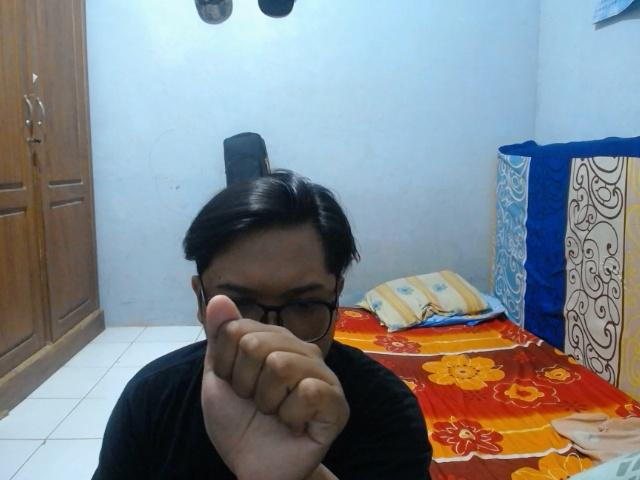Grab: (196, 288, 358, 480)
